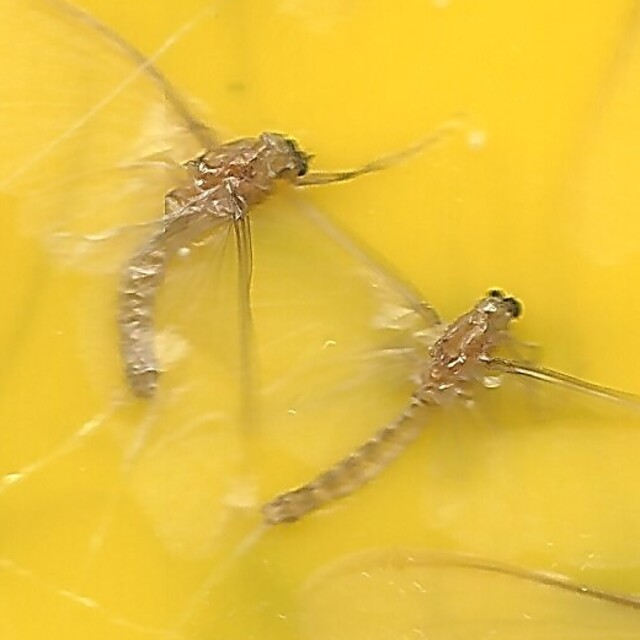Ephemeroptera: (256, 281, 517, 517), (123, 123, 318, 410)
